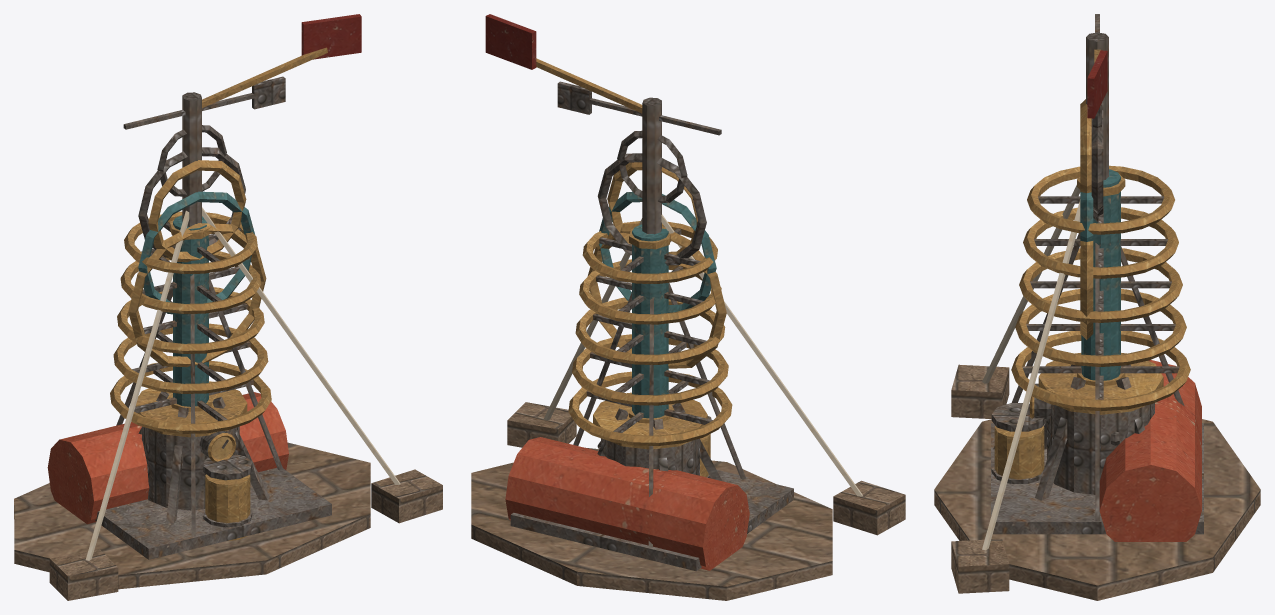
Rendered from east-wind-anchor.glb.
3 renders of one model, left to right at view 1: azimuth 30°, elevation 25°; view 2: azimuth 150°, elevation 25°; view 3: azimuth 270°, elevation 25°, orthographic. The views are drawn at different scales.
Parts seen in each view (by area): view 1: east-wind-anchor; view 2: east-wind-anchor; view 3: east-wind-anchor.
Part boxes in pixels (box(x1,y1,x2,y2)): east-wind-anchor: box(14, 14, 442, 600); east-wind-anchor: box(471, 14, 905, 600); east-wind-anchor: box(934, 14, 1260, 600).
Bounding box in the file's own units: 6.73 × 8.01 × 4.6.
1 material, 1 textured.
